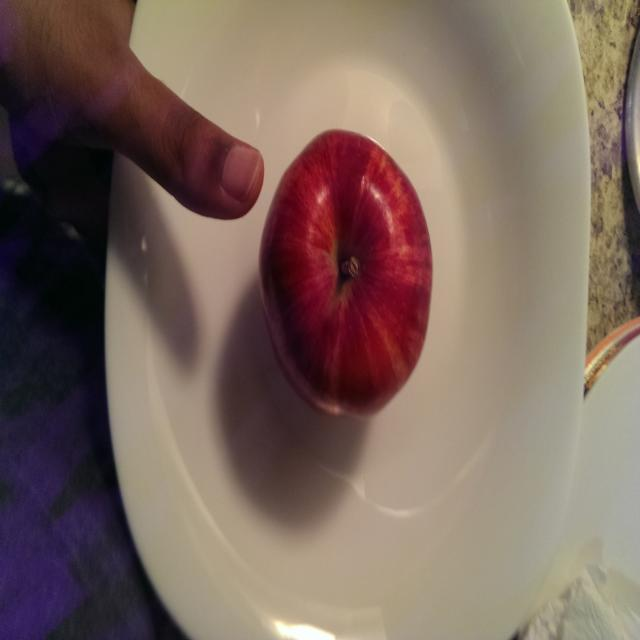Apple: (262, 122, 440, 426)
Finger: (153, 67, 266, 223)
